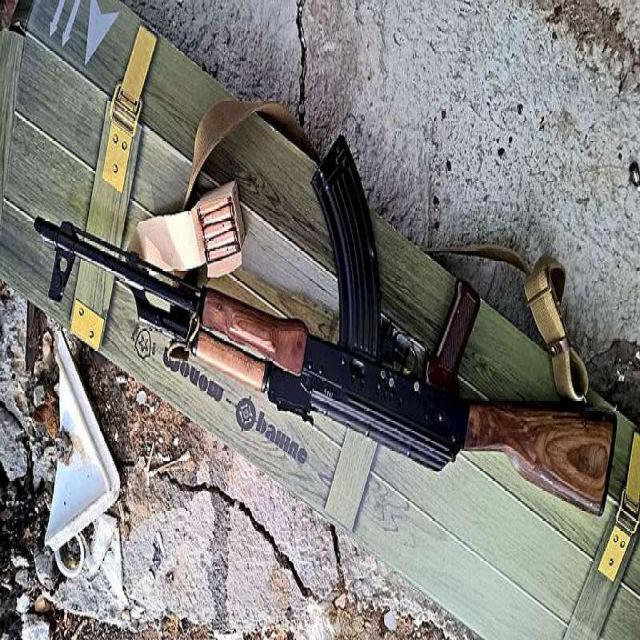weapon: (34, 133, 618, 518)
